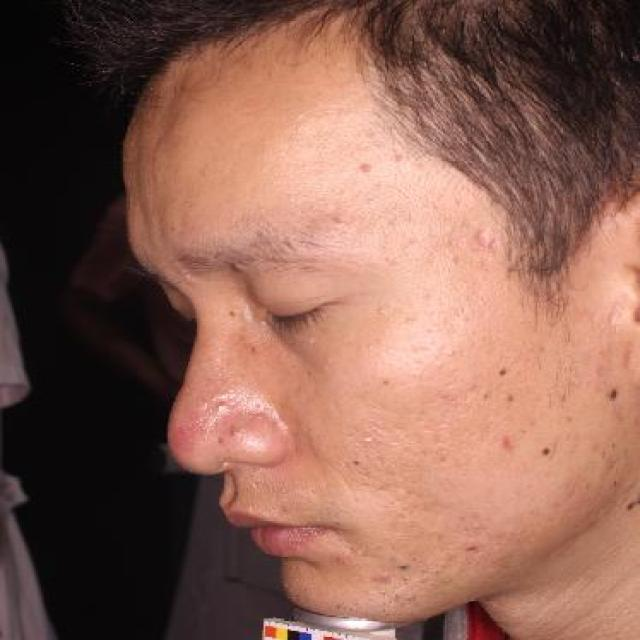acne: (597, 378, 633, 404), (325, 210, 354, 233), (342, 450, 370, 472), (352, 160, 376, 178), (493, 434, 517, 451), (393, 560, 415, 574), (210, 400, 228, 412)
darkspot: (488, 356, 516, 384), (534, 440, 563, 462)
